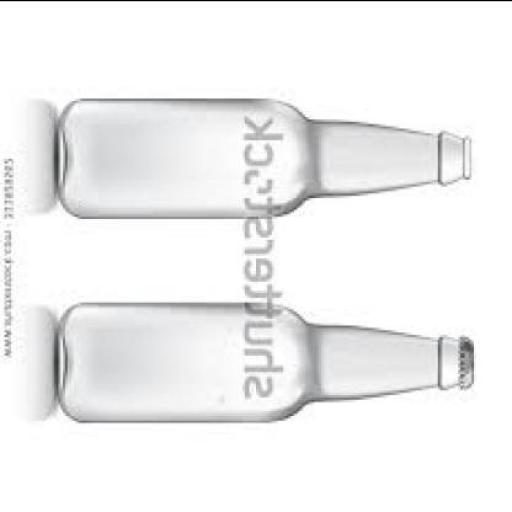glass: (56, 100, 472, 220), (61, 303, 462, 424)
metal: (463, 341, 476, 391)
